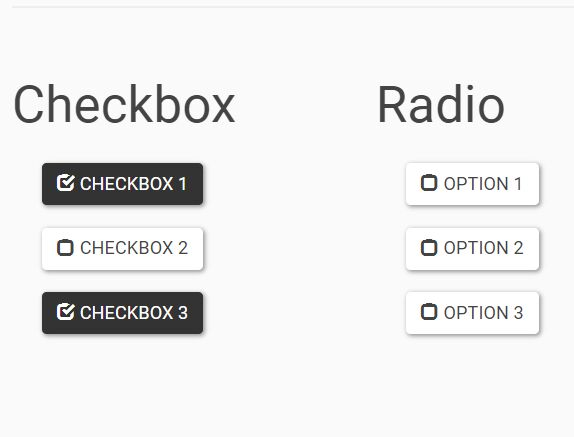checkbox: (39, 158, 209, 213), (37, 286, 207, 341), (34, 224, 214, 275)
radiobutton: (401, 287, 541, 344), (398, 225, 542, 276), (399, 159, 542, 209)
